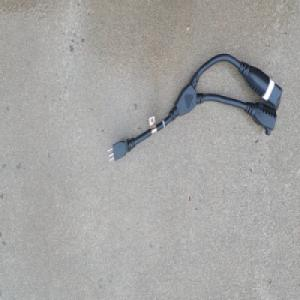Wire: (105, 51, 283, 165)
